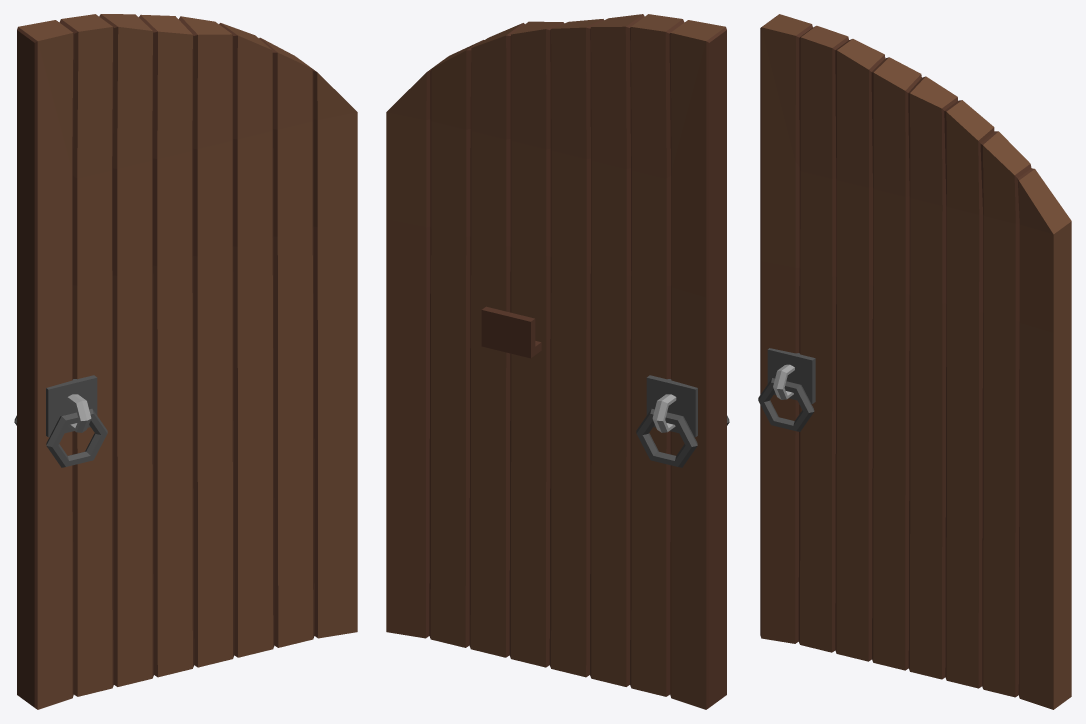
Rendered from DoubleDoor.fbx.
The picture shows the model from 3 angles, left to right: view 1: azimuth 30°, elevation 25°; view 2: azimuth 150°, elevation 25°; view 3: azimuth 330°, elevation 25°; orthographic projection. The views are drawn at different scales.
Visible parts, largest first — view 1: DoubleDoor; view 2: DoubleDoor; view 3: DoubleDoor.
Boxes of the visible parts, x1=… form: DoubleDoor: x1=14, y1=14, x2=357, y2=709; DoubleDoor: x1=386, y1=14, x2=729, y2=709; DoubleDoor: x1=758, y1=14, x2=1071, y2=709.
Size of the model in its own units: 127 by 252 by 35.68.
